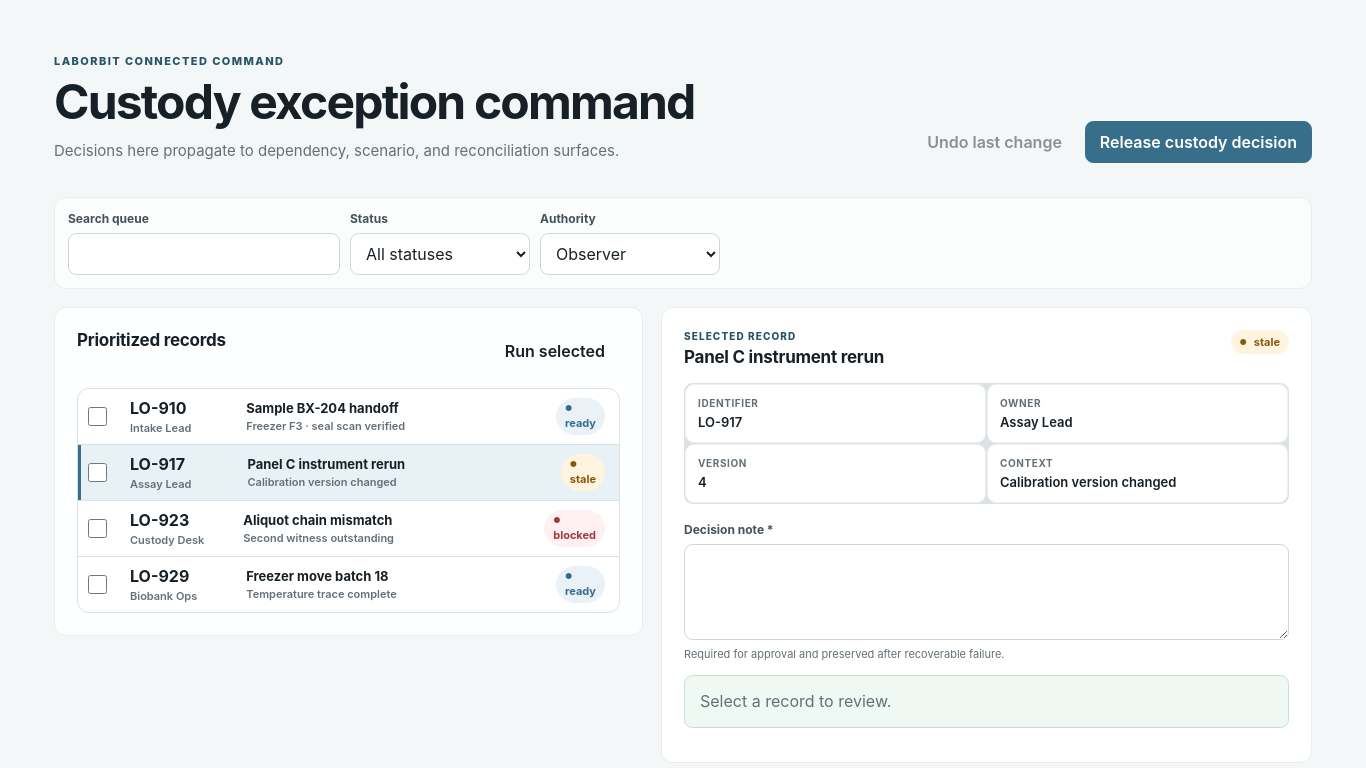
Test: Custody exception command › recovers a stale save while preserving the decision note
The width and height of the screenshot is (1366, 768).
Select "Approver" in the dropdown labelled "Authority" at (630, 254), box [540,233,720,275]
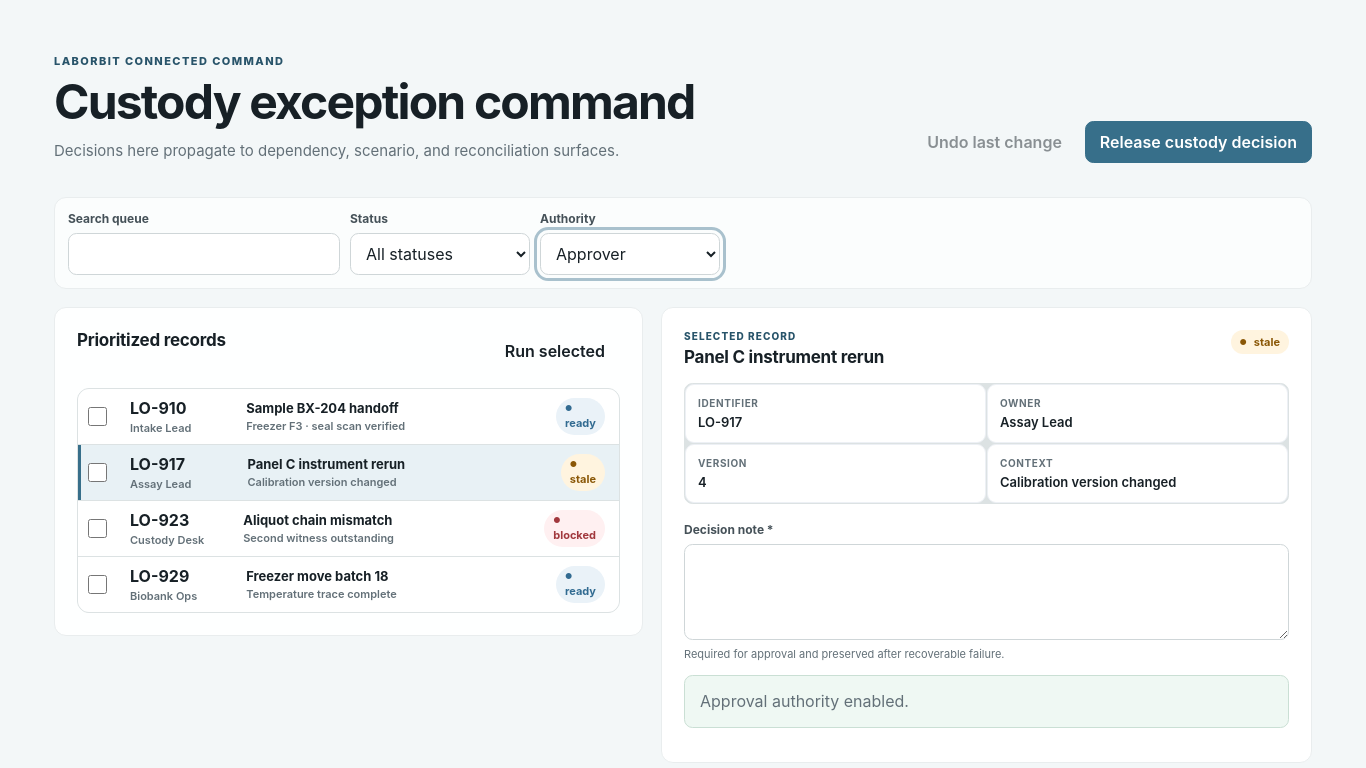
Type "Keep this evidence-based rationale" into the text box labelled "Decision note" at (986, 592), box [684,544,1289,640]
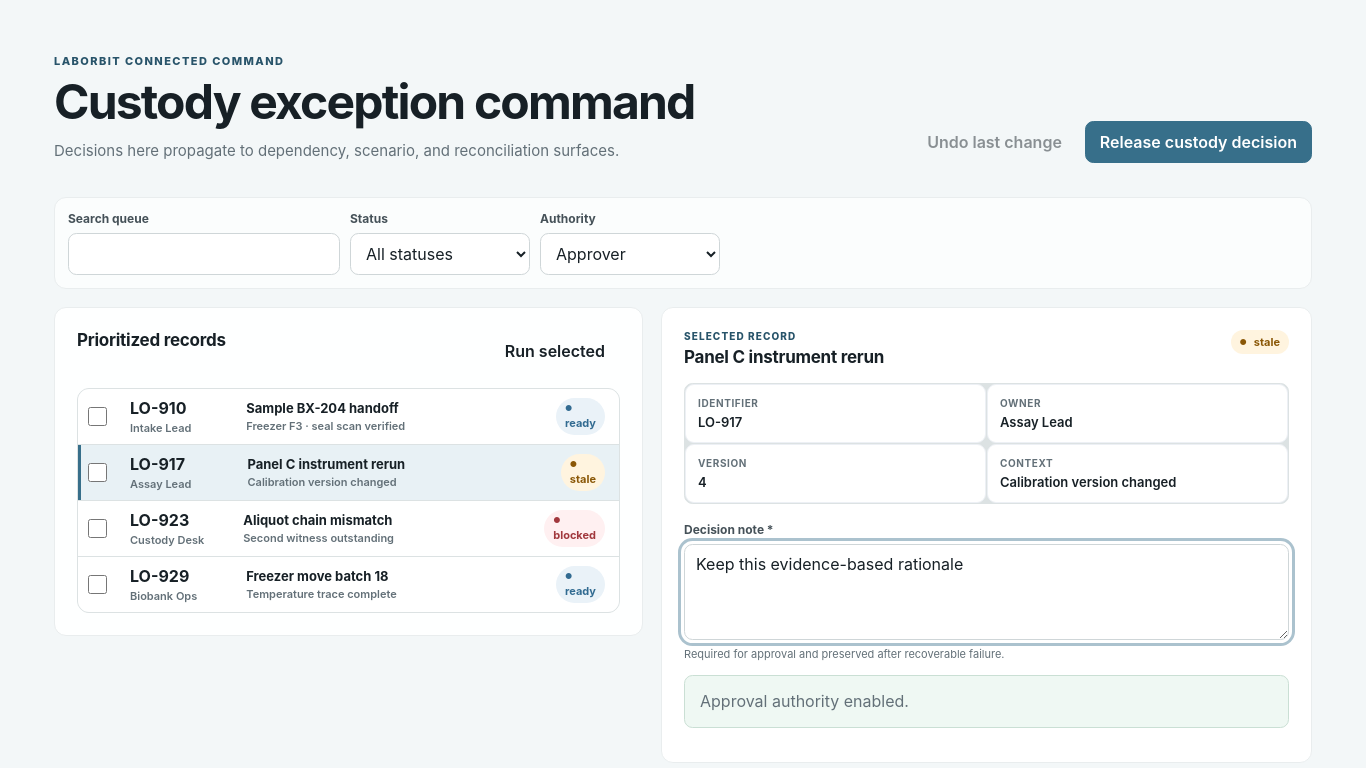
Click the button "Release custody decision" at (1198, 142), box [1085,121,1312,163]
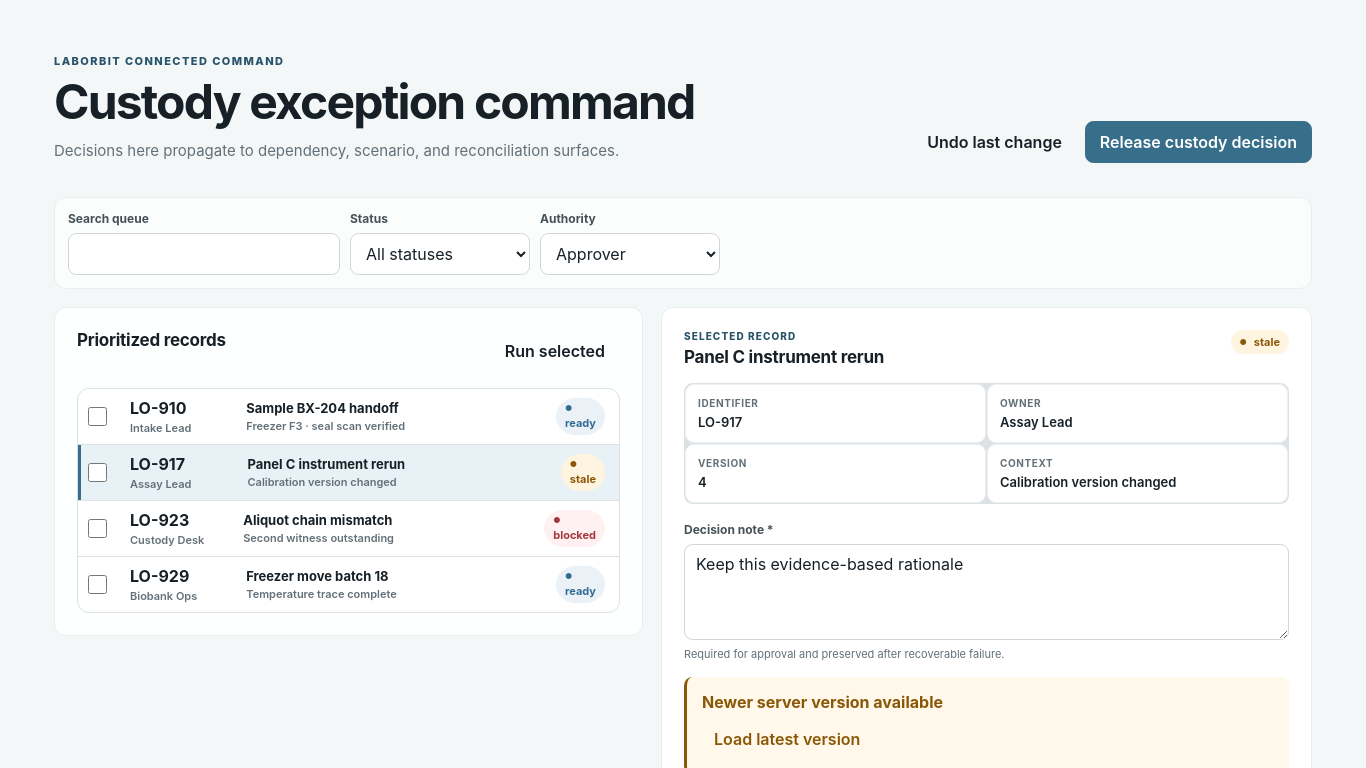
expect the message shows "Newer server version": met, box [702,692,943,712]
Click the button "Load latest version" at (787, 739), box [702,718,1274,760]
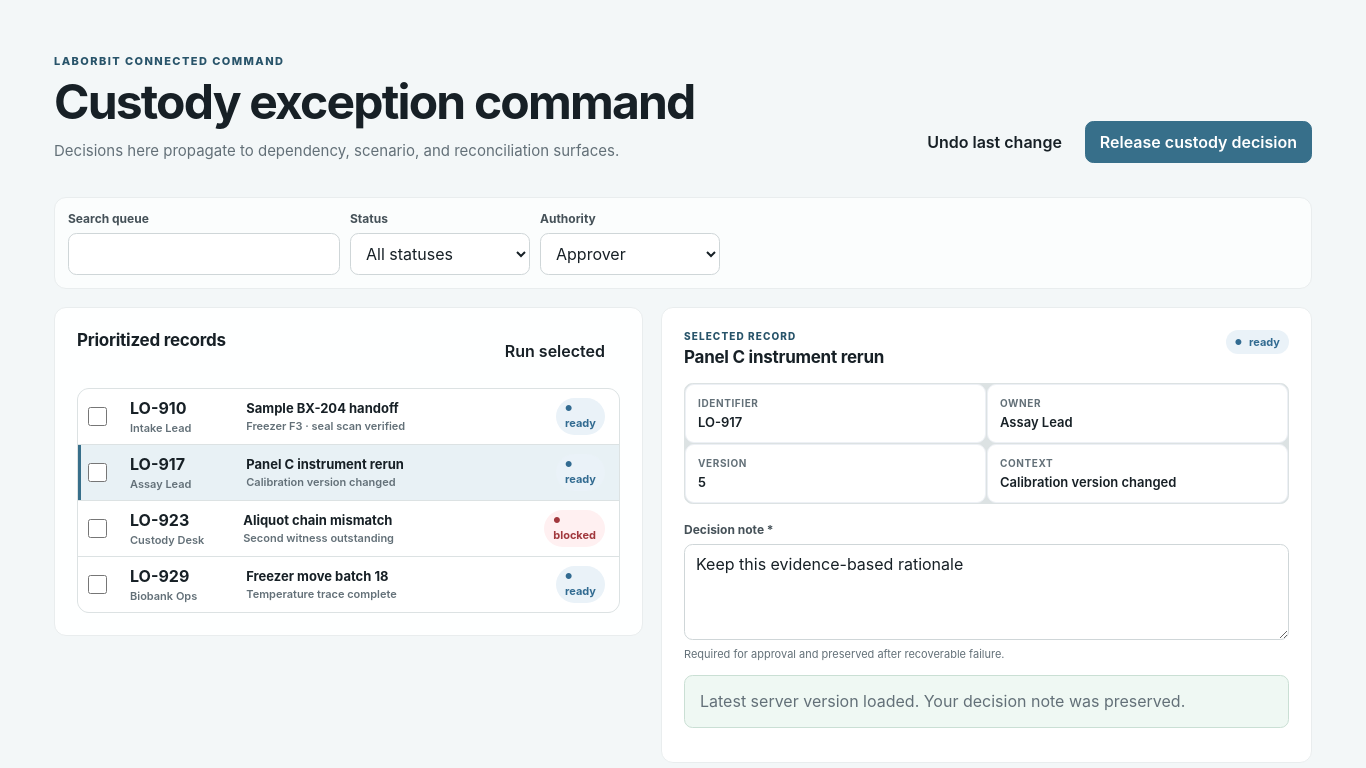
Click the button "Release custody decision" at (1198, 142), box [1085,121,1312,163]
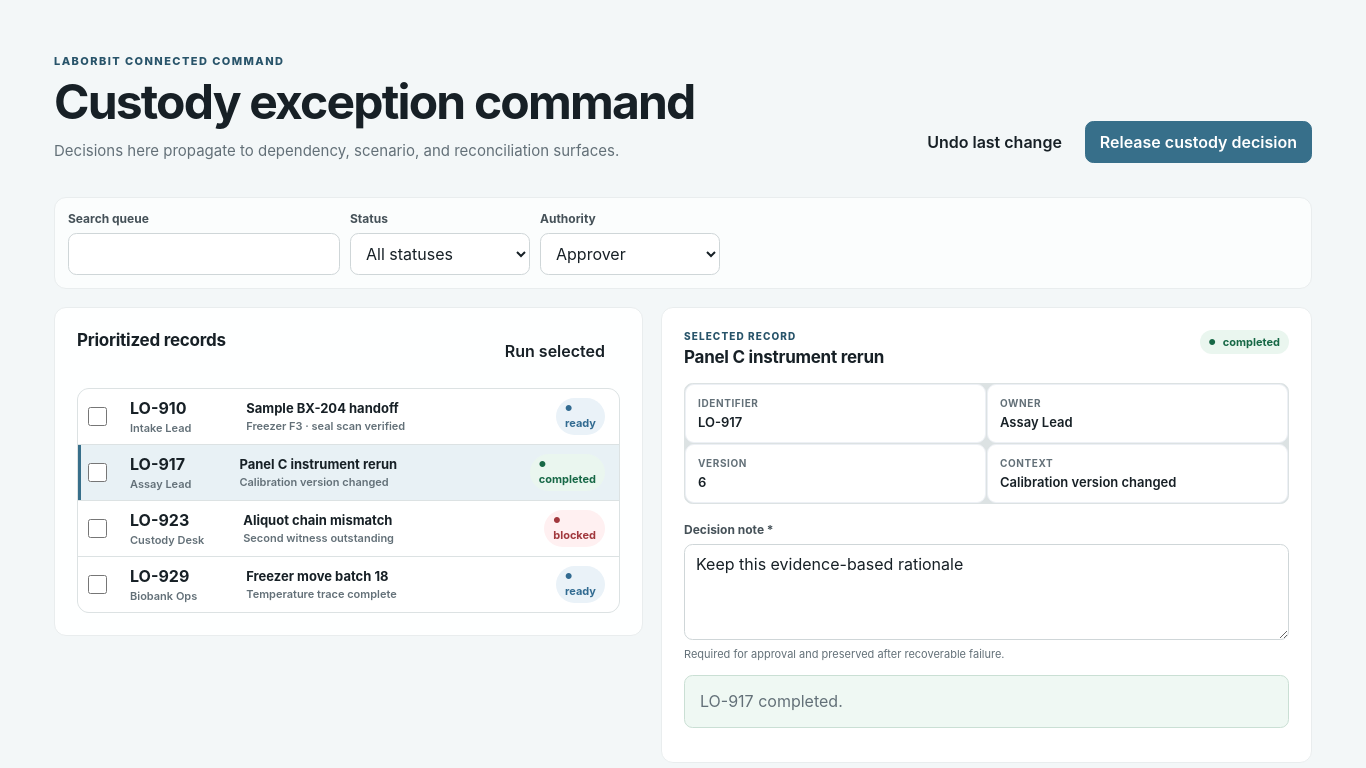
expect the message shows "completed": met, box [700,691,843,711]
